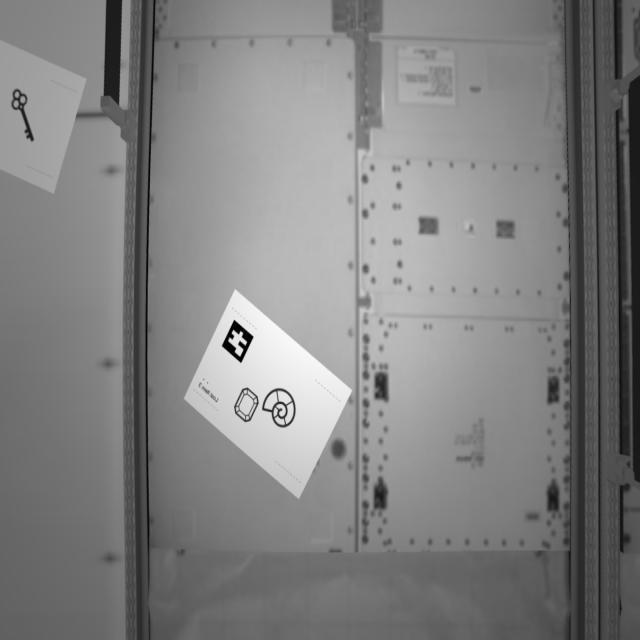emerald: (232, 379, 260, 427)
fossil: (266, 379, 298, 435)
key: (6, 85, 44, 149)
